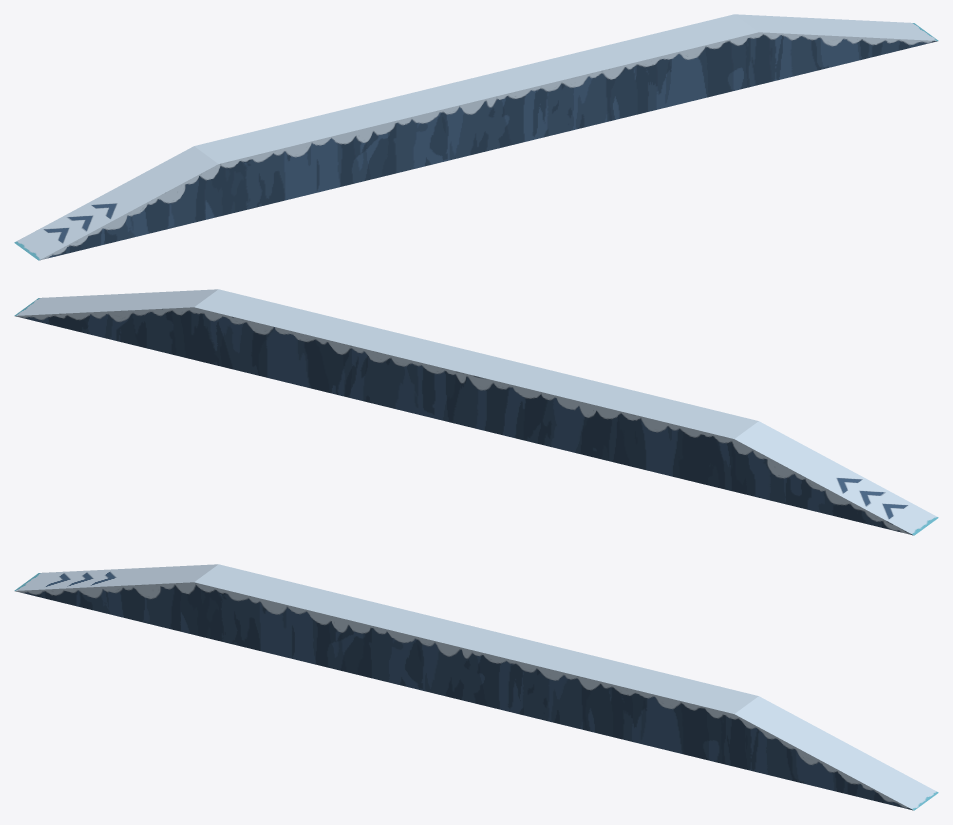
File: ramp_05.glb
3 views of the same model, one above another, from view 1: azimuth 30°, elevation 25°; view 2: azimuth 150°, elevation 25°; view 3: azimuth 330°, elevation 25° (orthographic).
Parts seen in each view (by area): view 1: Ramp 05; view 2: Ramp 05; view 3: Ramp 05.
Part boxes in pixels (bbox=[...]): Ramp 05: bbox=[14, 14, 938, 260]; Ramp 05: bbox=[14, 289, 938, 535]; Ramp 05: bbox=[14, 564, 938, 810].
Bounding box in the file's own units: 125 × 6.99 × 5.92.
Materials: 1 (1 with a texture image).
